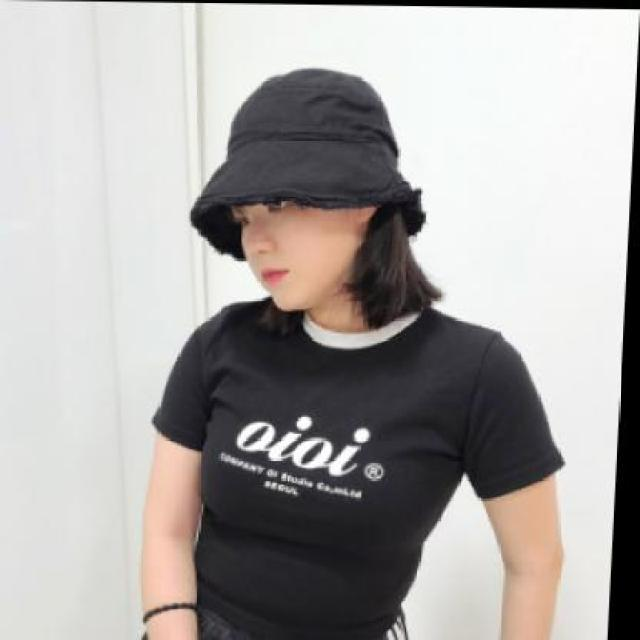hat: (191, 63, 417, 214)
